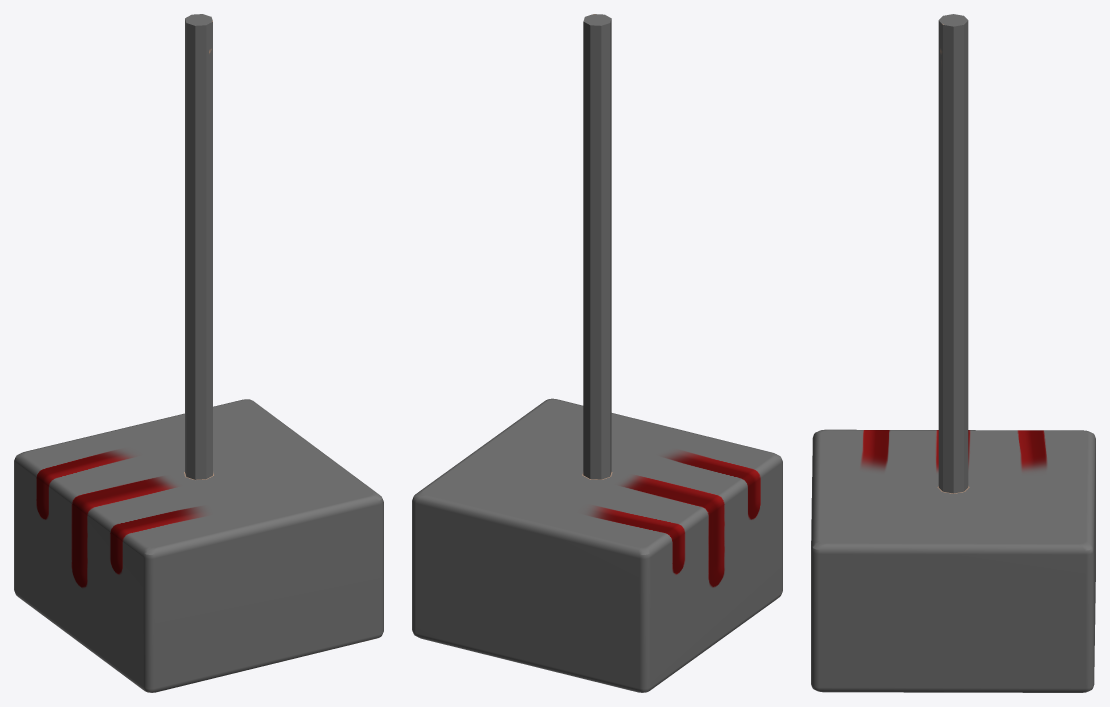
File: Puzzle_A (1).fbx
3 renders of one model, left to right at view 1: azimuth 30°, elevation 25°; view 2: azimuth 150°, elevation 25°; view 3: azimuth 270°, elevation 25°, orthographic. The views are drawn at different scales.
Visible parts, largest first — view 1: Cube_A_0, Cylinder_A; view 2: Cube_A_0, Cylinder_A; view 3: Cube_A_0, Cylinder_A.
Part boxes in pixels (x1,y1,x2,y2): Cube_A_0: (14, 399, 383, 692); Cylinder_A: (185, 14, 212, 479); Cube_A_0: (412, 398, 782, 692); Cylinder_A: (583, 14, 611, 479); Cube_A_0: (811, 429, 1095, 692); Cylinder_A: (938, 14, 968, 493).
Size of the model in its own units: 6.47 by 15.43 by 6.47.
Materials: 2 (2 with a texture image).
